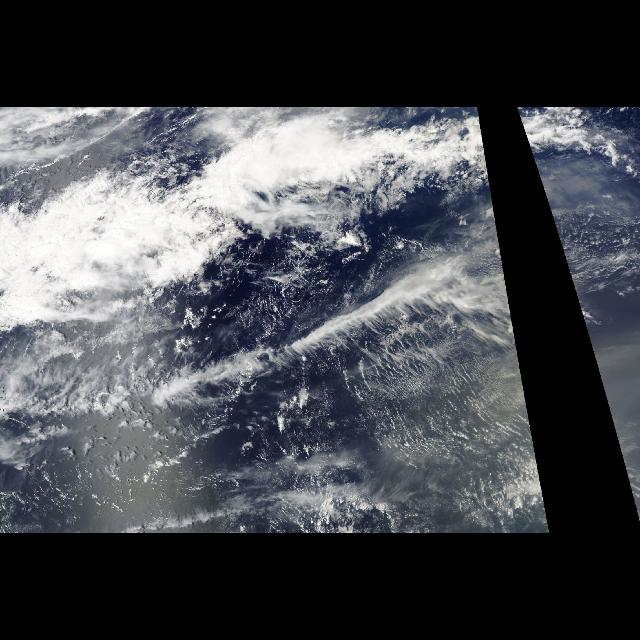Fish: (6, 120, 478, 332)
Sugar: (315, 340, 539, 502)
